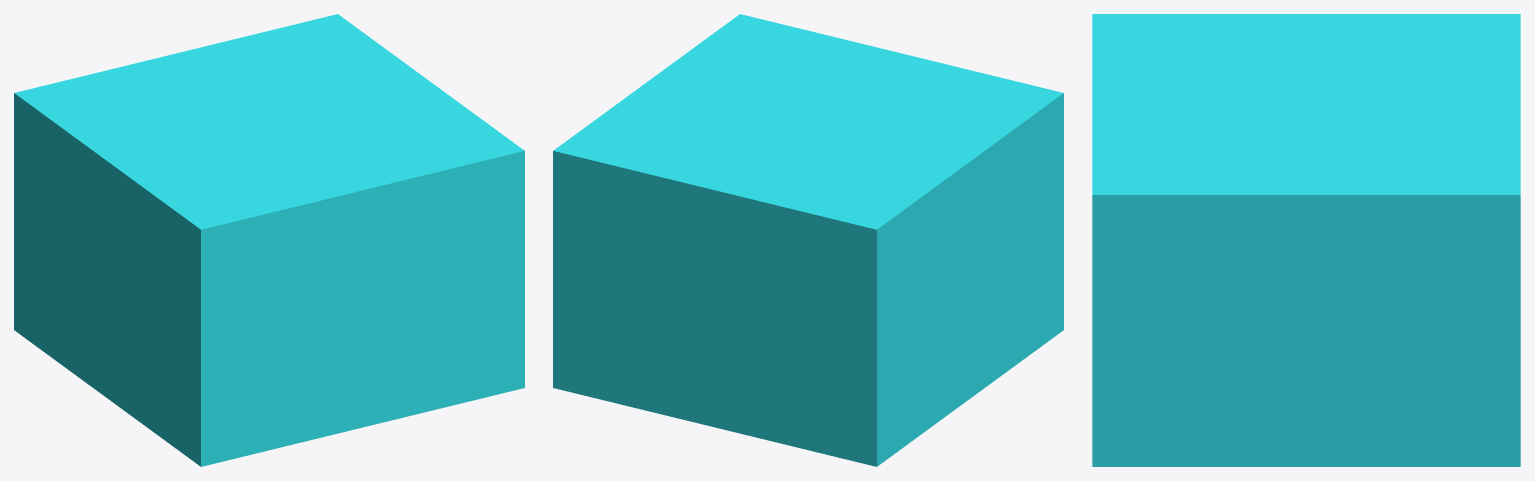
The model's file is WaterBlockFilled_7.fbx.
3 renders of one model, left to right at view 1: azimuth 30°, elevation 25°; view 2: azimuth 150°, elevation 25°; view 3: azimuth 270°, elevation 25°, orthographic. The views are drawn at different scales.
Visible parts, largest first — view 1: WaterBlockFilled_7; view 2: WaterBlockFilled_7; view 3: WaterBlockFilled_7.
Boxes of the visible parts, box(x1,y1,x2,y2) form: WaterBlockFilled_7: box(14, 14, 524, 466); WaterBlockFilled_7: box(553, 14, 1063, 466); WaterBlockFilled_7: box(1092, 14, 1520, 466).
Bounding box in the file's own units: 1 × 0.7 × 1.
Materials: 1 (1 with a texture image).
